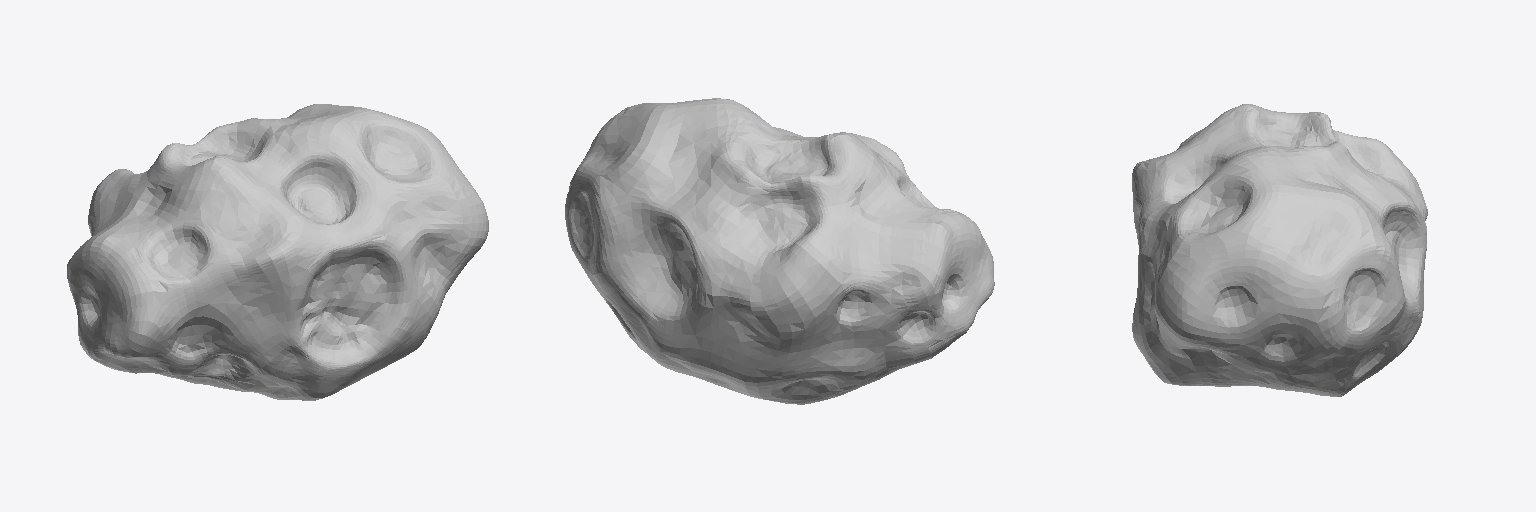
File: asteroidone.obj
3 views of the same model, side by side, from view 1: azimuth 30°, elevation 25°; view 2: azimuth 150°, elevation 25°; view 3: azimuth 270°, elevation 25° (orthographic).
Visible parts, largest first — view 1: obj1; view 2: obj1; view 3: obj1.
Boxes of the visible parts, x1=… form: obj1: x1=67, y1=104, x2=488, y2=400; obj1: x1=565, y1=98, x2=994, y2=404; obj1: x1=1132, y1=104, x2=1427, y2=396.
Size of the model in its own units: 2.18 by 1.46 by 1.51.